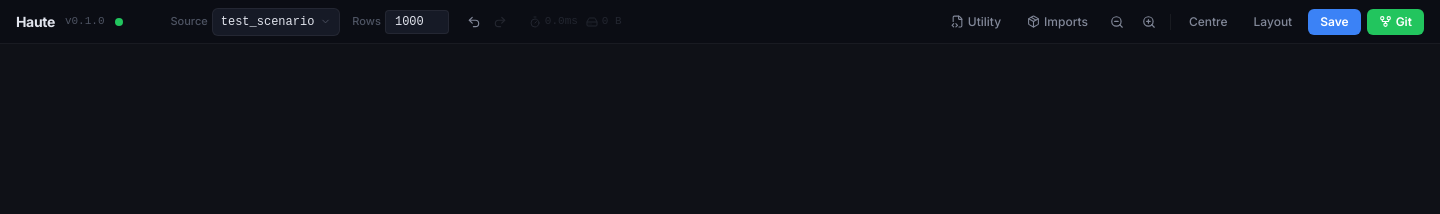
Toolbar › shows remove option for non-live sources
Click the button titled "Data source".
click(276, 22)  # box x1=212 y1=8 x2=340 y2=36
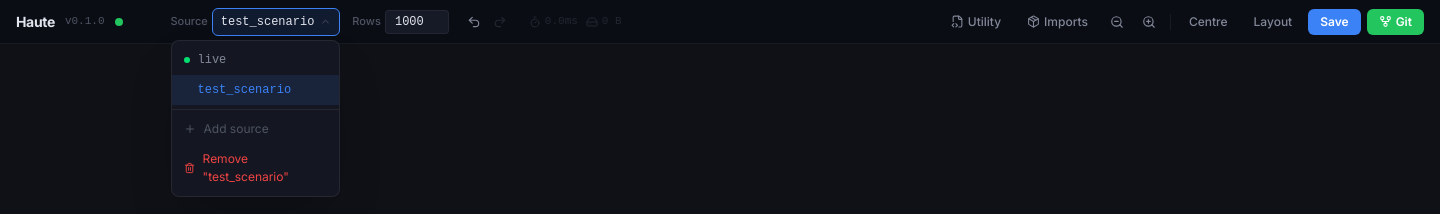
Now the button "Remove \"test_scenario\"" is shown, box x1=172 y1=144 x2=339 y2=192
